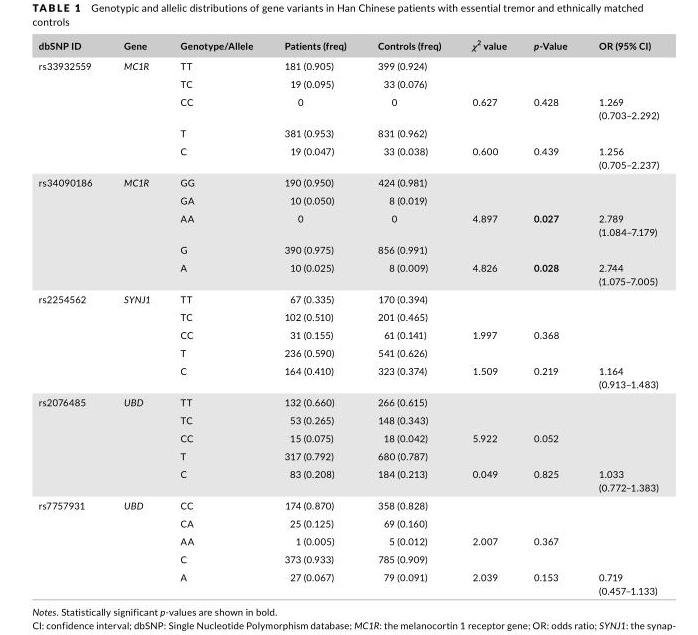table: (37, 37, 658, 595)
table column: (164, 37, 267, 595), (361, 37, 456, 595), (267, 37, 361, 595), (582, 37, 658, 595), (37, 37, 107, 595), (456, 37, 519, 595), (519, 37, 582, 595), (107, 37, 164, 595)
table column header: (37, 37, 658, 55)
table row: (37, 208, 658, 240), (37, 92, 658, 123), (37, 141, 658, 172), (37, 258, 658, 289), (37, 361, 658, 392), (37, 464, 658, 495), (37, 567, 658, 595), (37, 55, 658, 74), (37, 37, 658, 55), (37, 74, 658, 92), (37, 123, 658, 141), (37, 172, 658, 190), (37, 190, 658, 208), (37, 240, 658, 258), (37, 289, 658, 307), (37, 307, 658, 325), (37, 325, 658, 343), (37, 343, 658, 361), (37, 392, 658, 410), (37, 410, 658, 428), (37, 428, 658, 446), (37, 446, 658, 464), (37, 495, 658, 513), (37, 513, 658, 531), (37, 531, 658, 549), (37, 549, 658, 567)
table spanning cell: (37, 55, 107, 172), (37, 172, 107, 289), (37, 289, 107, 392), (37, 392, 107, 495), (37, 495, 107, 595), (107, 55, 164, 172), (107, 172, 164, 289), (107, 289, 164, 392), (107, 392, 164, 495), (107, 495, 164, 595)
